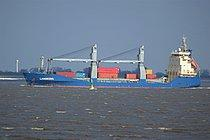Ship: (18, 35, 207, 92)
